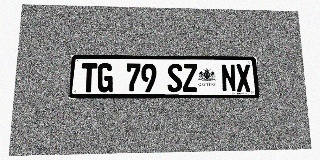7: (125, 63, 141, 92)
9: (141, 63, 156, 92)
G: (97, 63, 113, 92)
N: (221, 64, 236, 92)
S: (167, 64, 182, 92)
T: (80, 63, 97, 92)
X: (236, 64, 251, 92)
Z: (182, 64, 198, 92)
